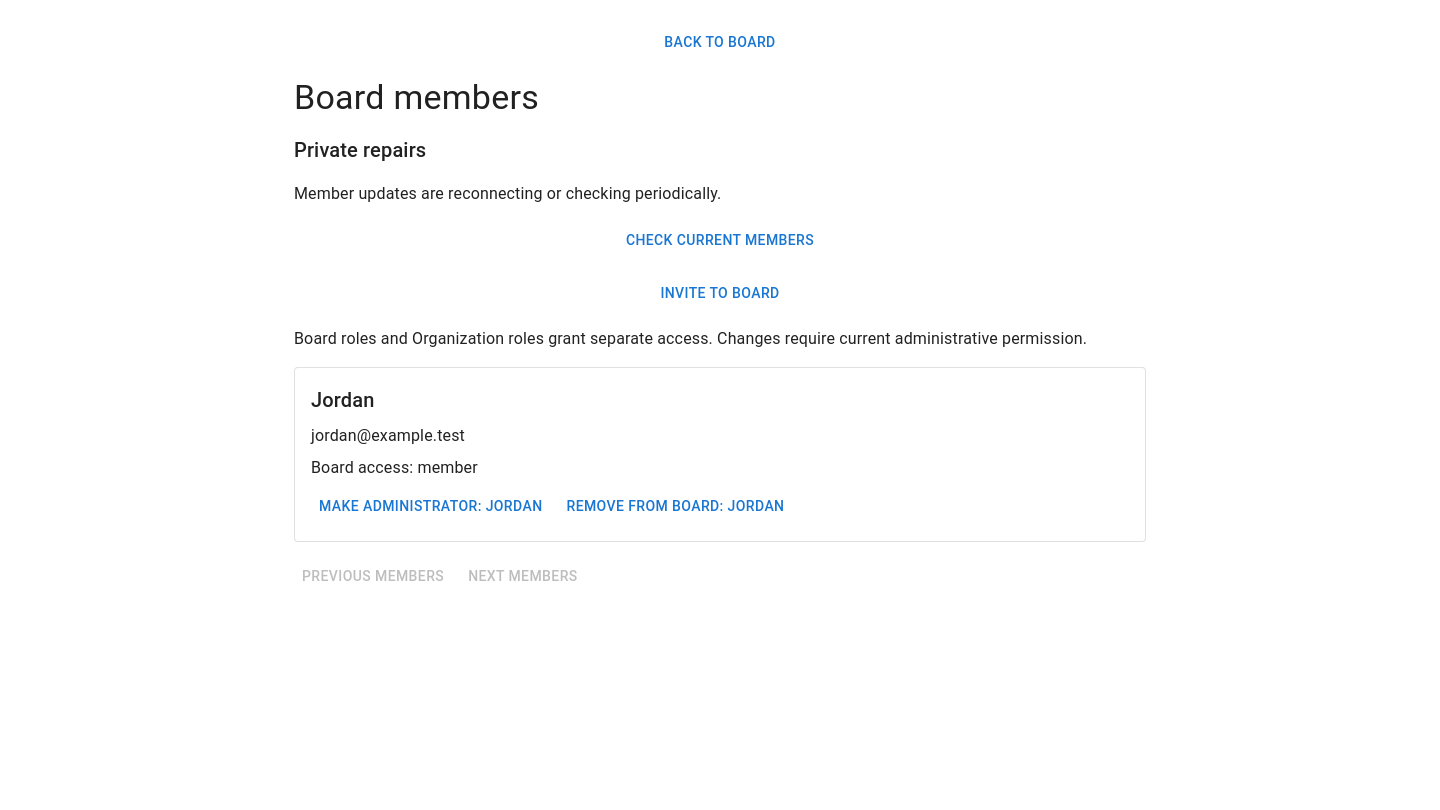
it: clears private metadata on lost authority during removal
The width and height of the screenshot is (1440, 810).
Click the button "Remove from Board: Jordan": (676, 507) top-left (558, 488), bottom-right (792, 525)
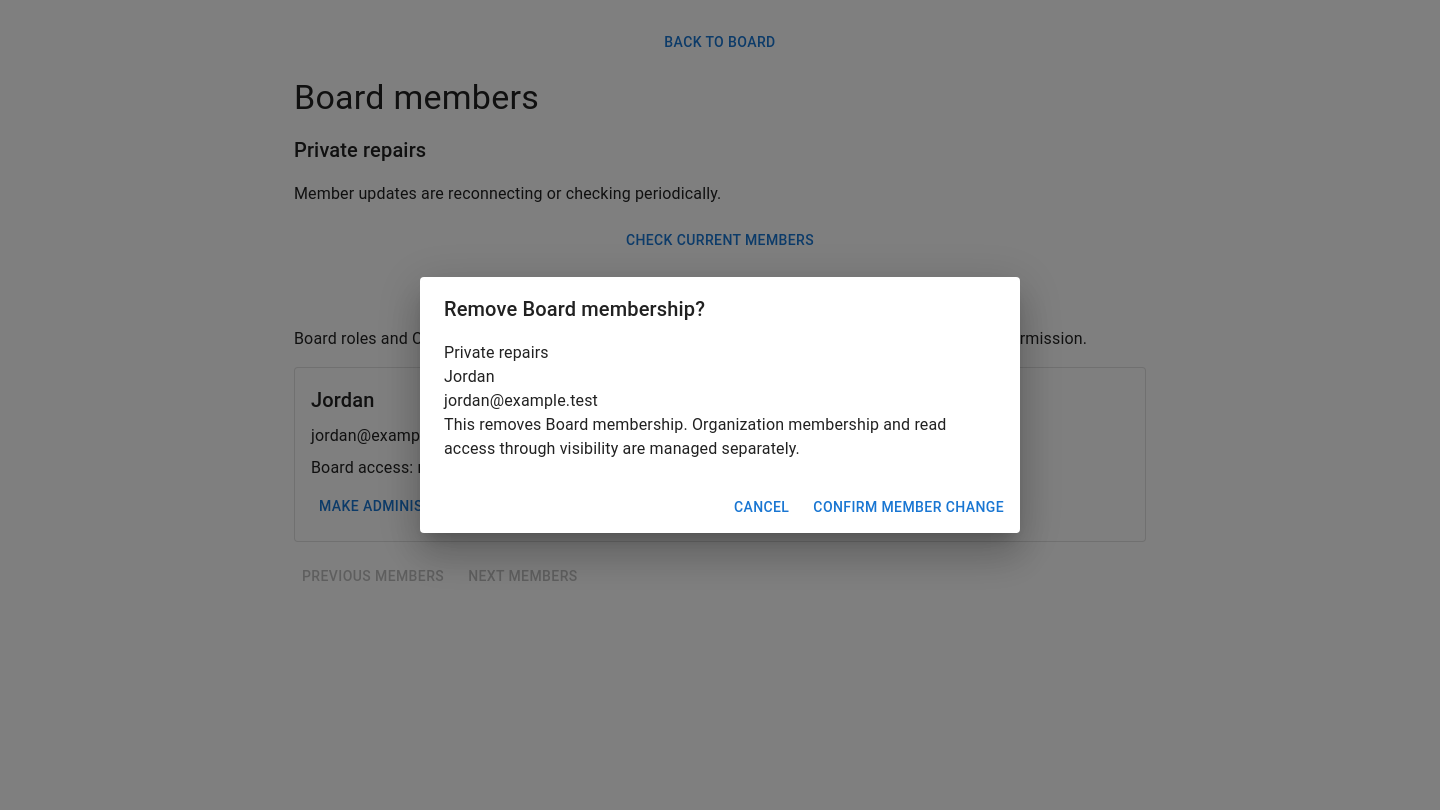
Click the button "Confirm member change": (909, 507) top-left (805, 489), bottom-right (1012, 525)
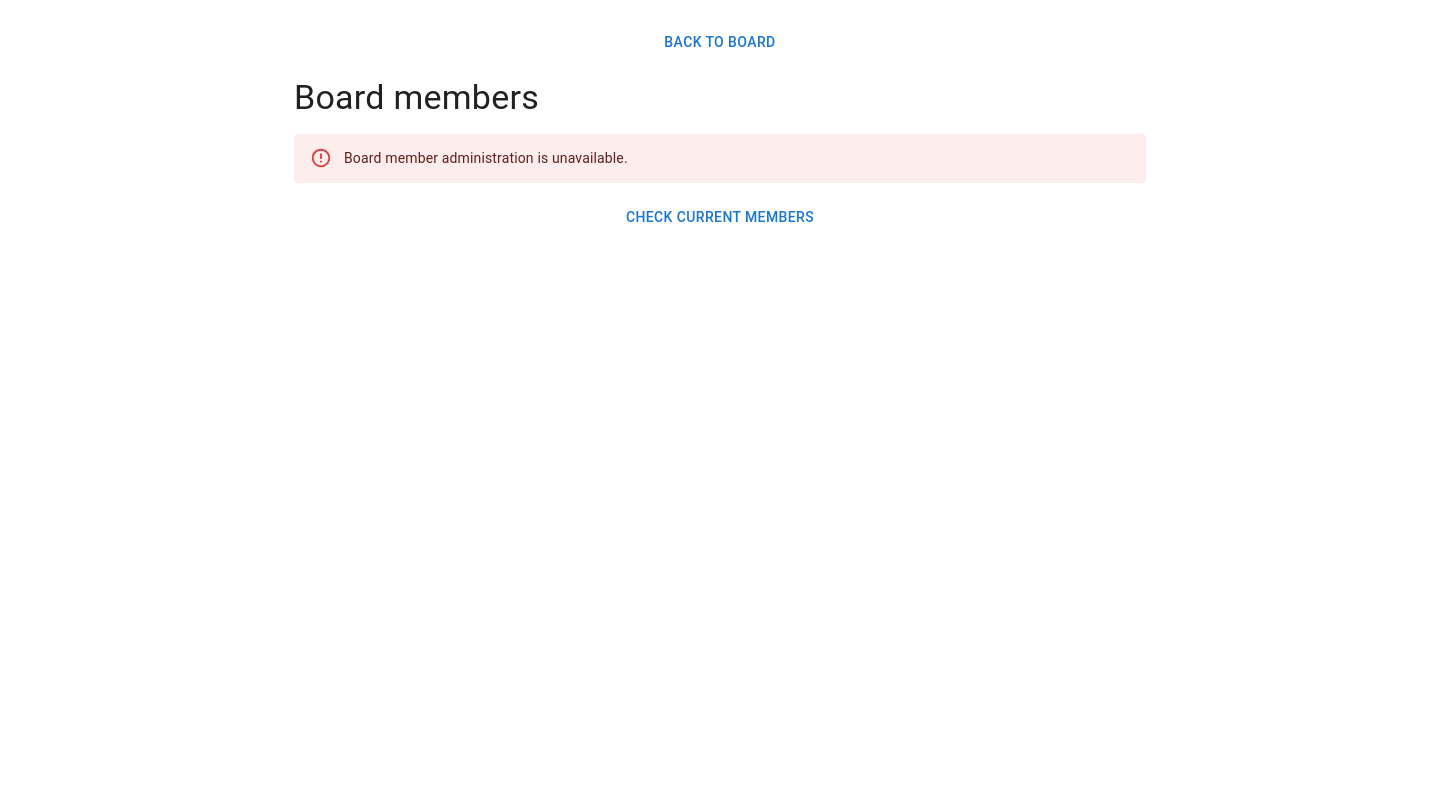
Result: the text "Board member administration is unavailable." is shown at top-left (344, 150), bottom-right (628, 166)
Result: the text "jordan@example.test" is gone
Result: the heading "Private repairs" is gone
